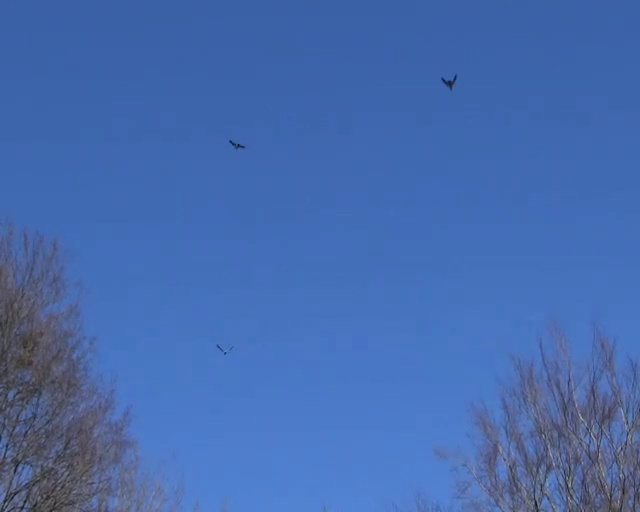BIRD: (440, 74, 458, 91)
